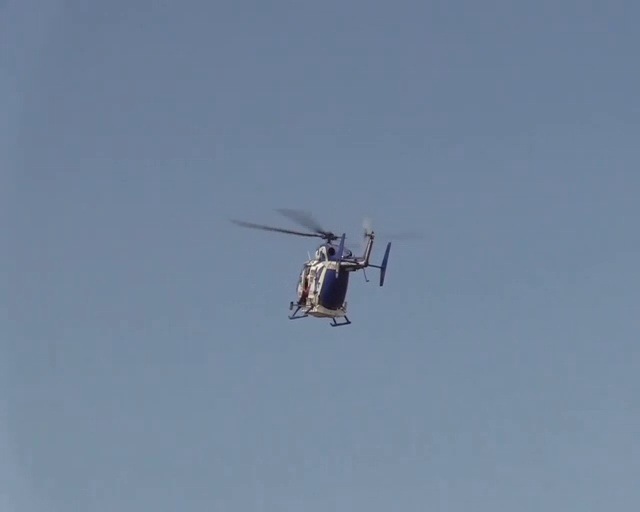HELICOPTER: (226, 208, 392, 327)
